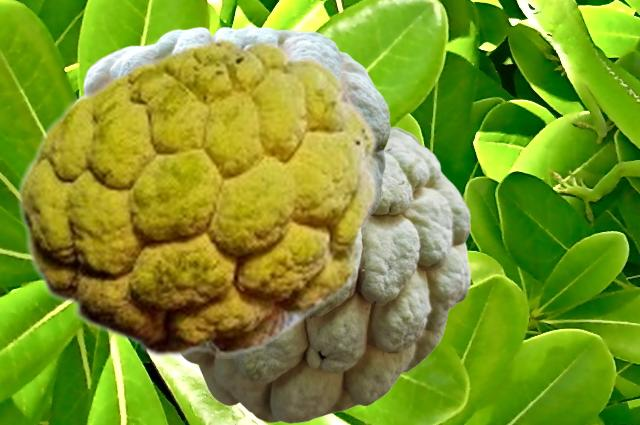atis: (15, 36, 378, 357), (181, 124, 470, 422), (82, 26, 389, 214)
